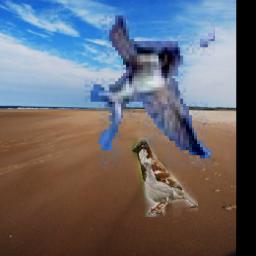Sparrow: (133, 139, 199, 218)
Swallow: (85, 16, 215, 170)
